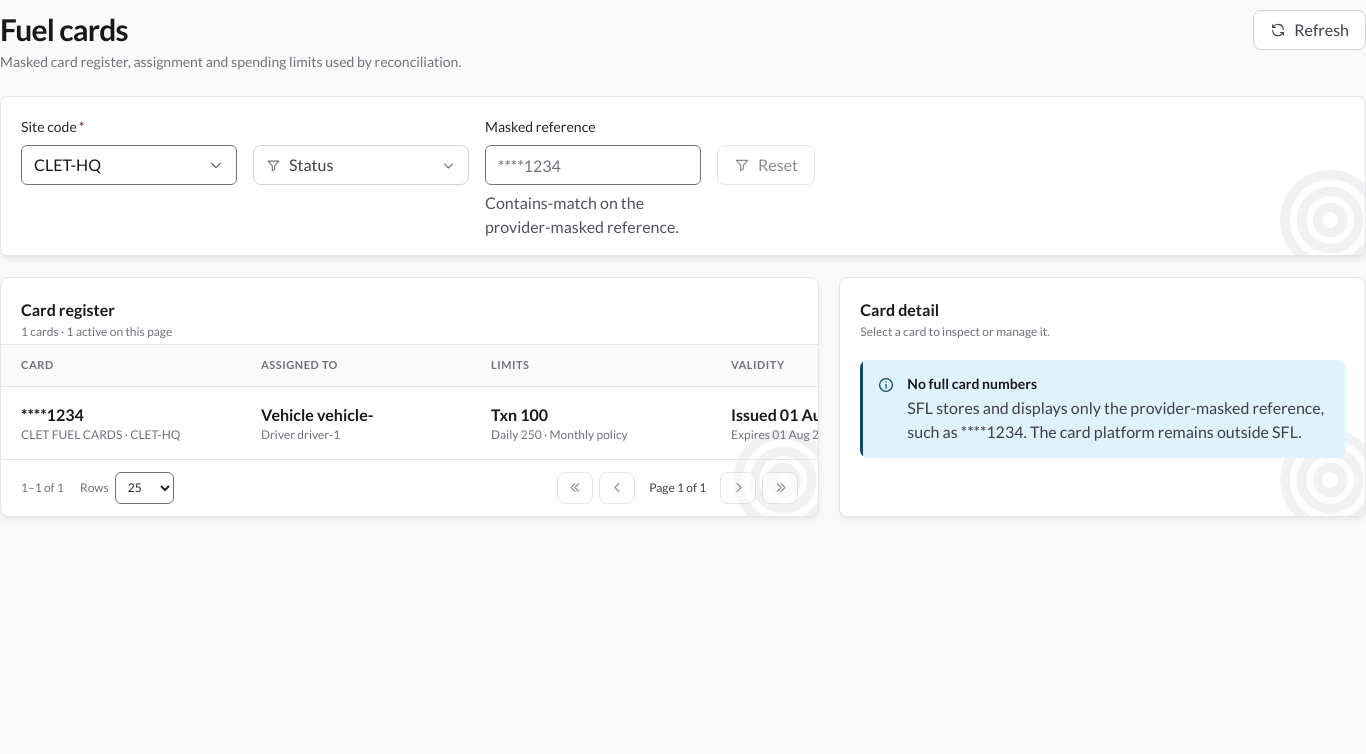
Test case: FuelCardsPage › shows the register but withholds mutation controls from a read-only fuel-card actor
Expected: the text "****1234" is shown, [21,404,84,424]
Click the button "****1234 CLET FUEL CARDS · CLET-HQ" at (121, 422), box [21,402,221,442]
(page scrolled)
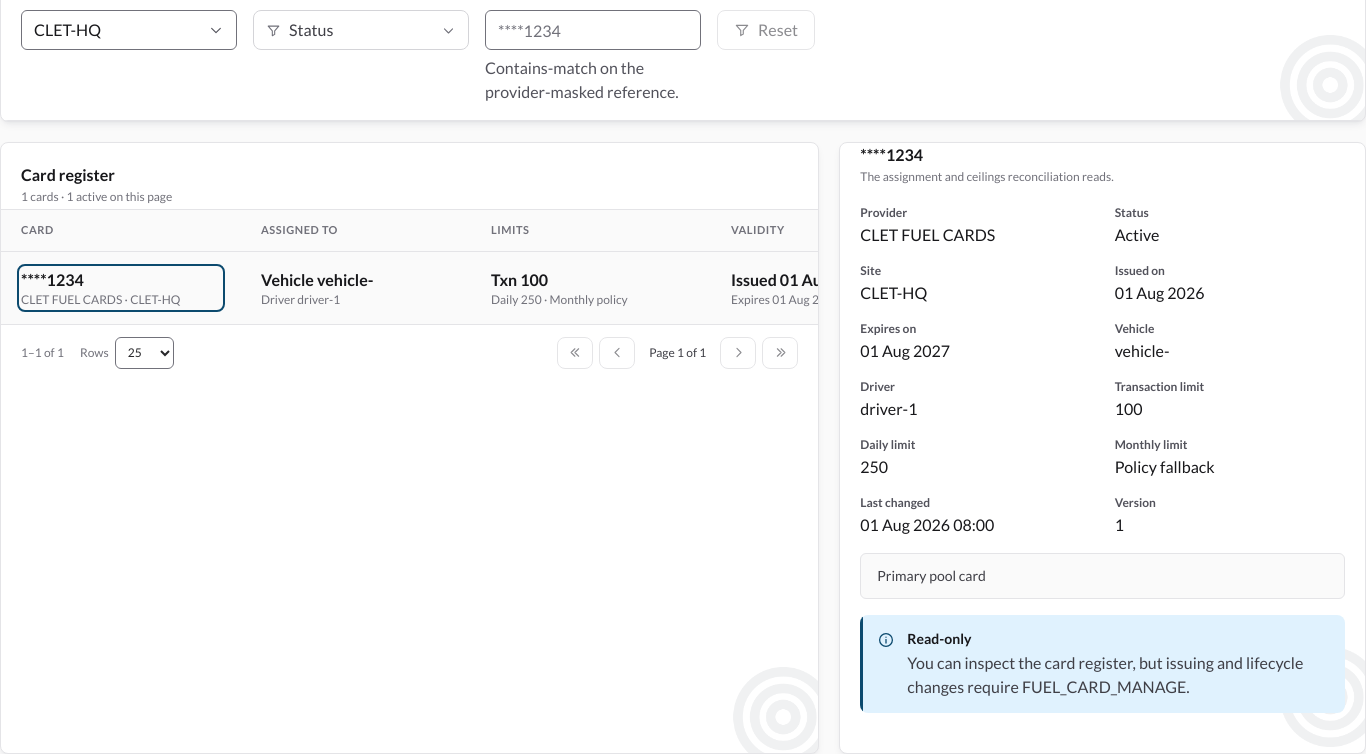
Expected: the text "Read-only" is shown, [907,630,972,647]
Expected: the text "You can inspect the card register, but issuing and lifecycle changes require FUEL_CARD_MANAGE." is shown, [907,653,1303,696]
